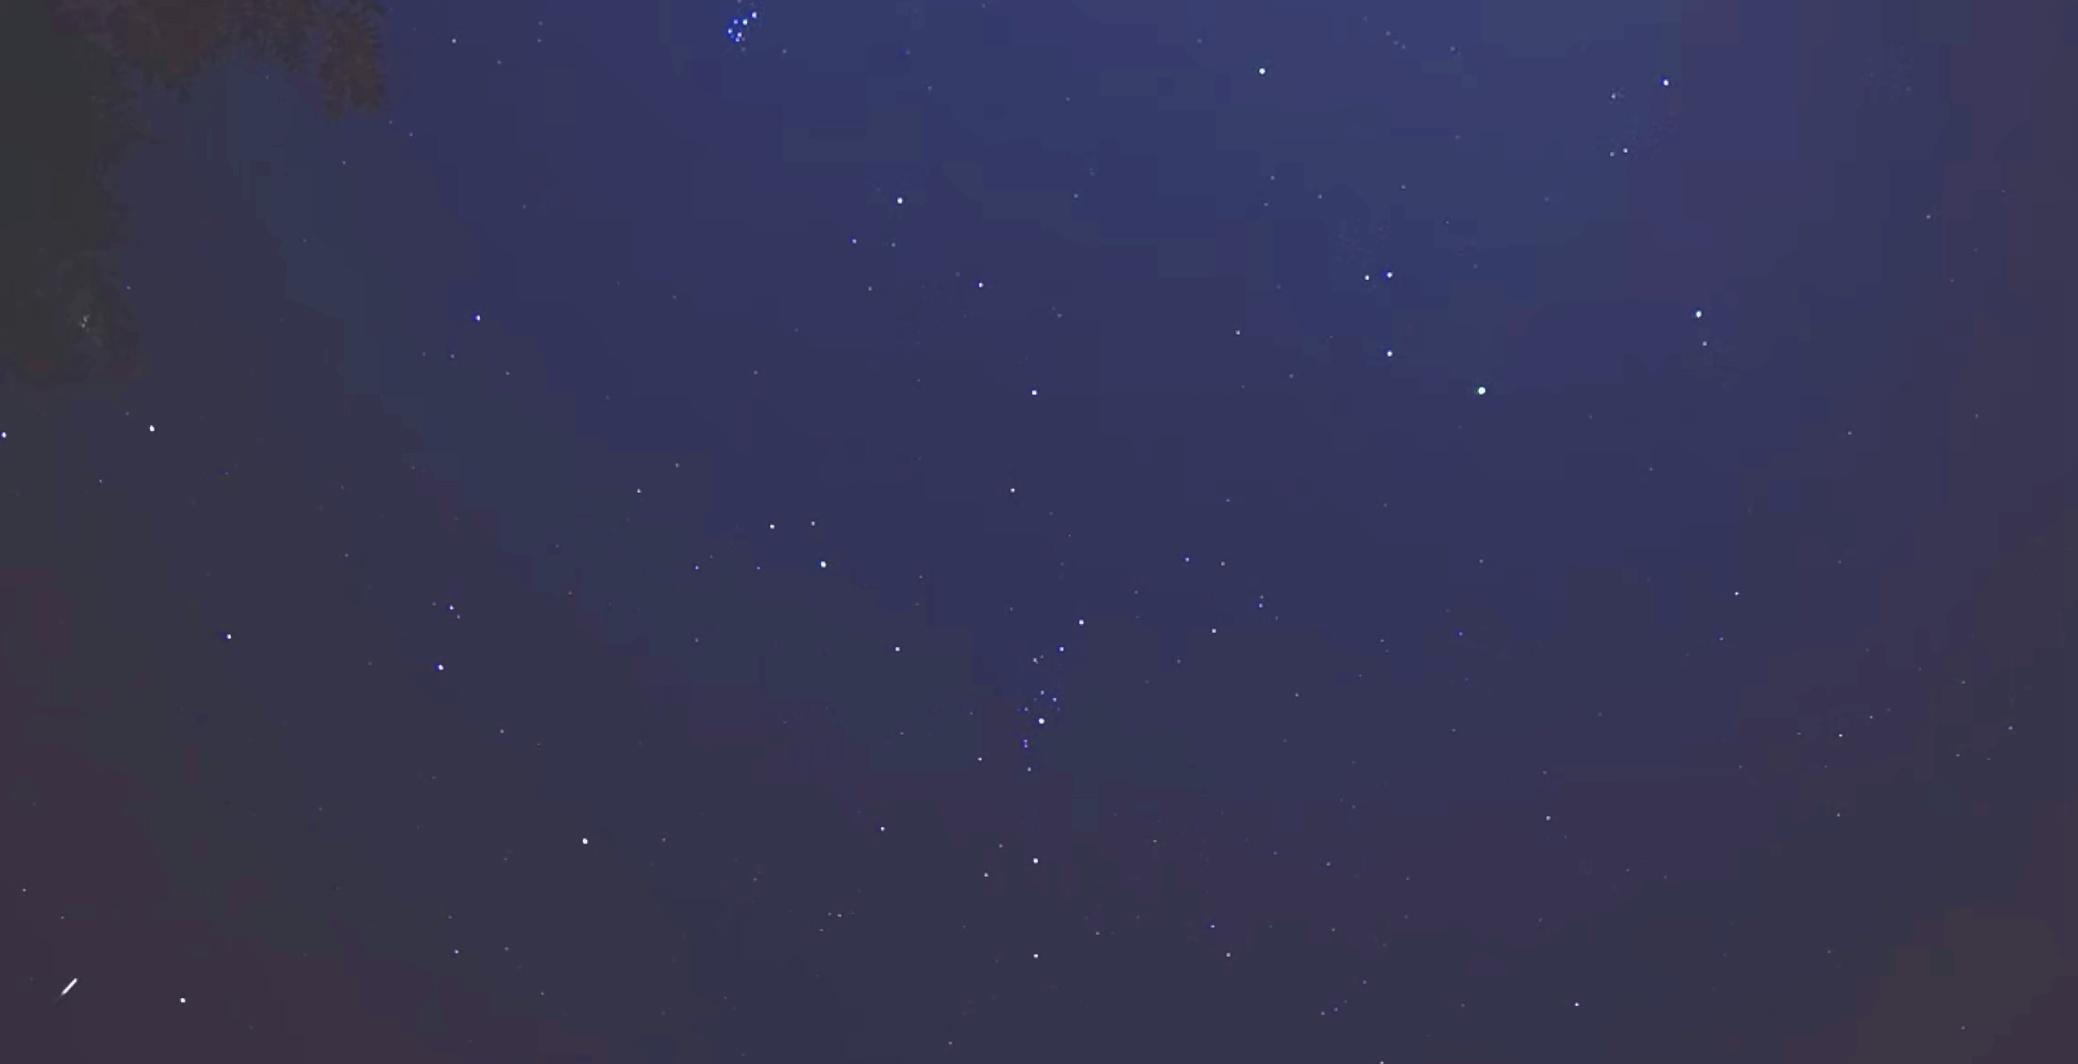meteorite: (9, 969, 129, 1006)
